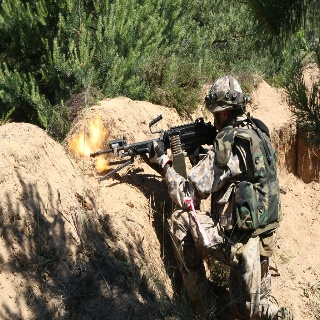rifle: (89, 115, 225, 181)
